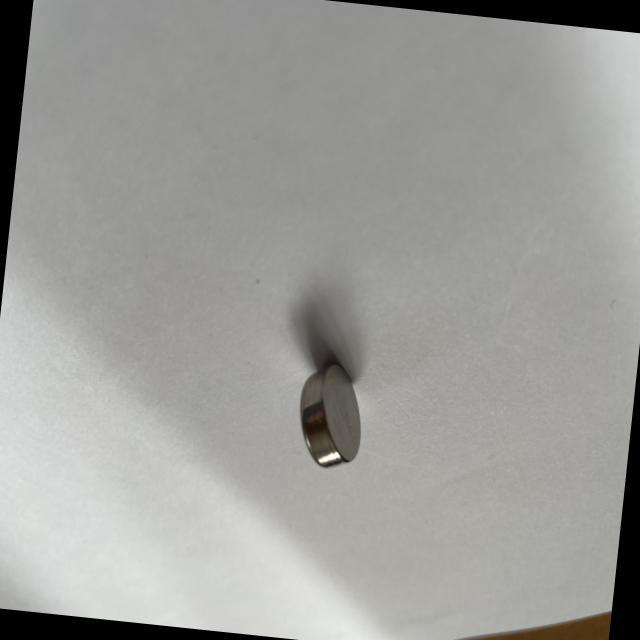COIN: (287, 355, 368, 476)
